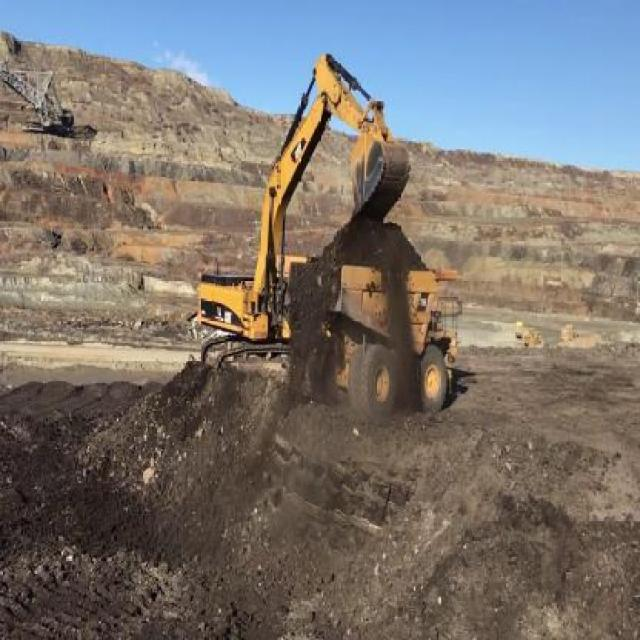Dump Truck: (290, 215, 458, 413)
Excavator: (190, 52, 415, 370)
Mobile Crane: (0, 68, 74, 134)
